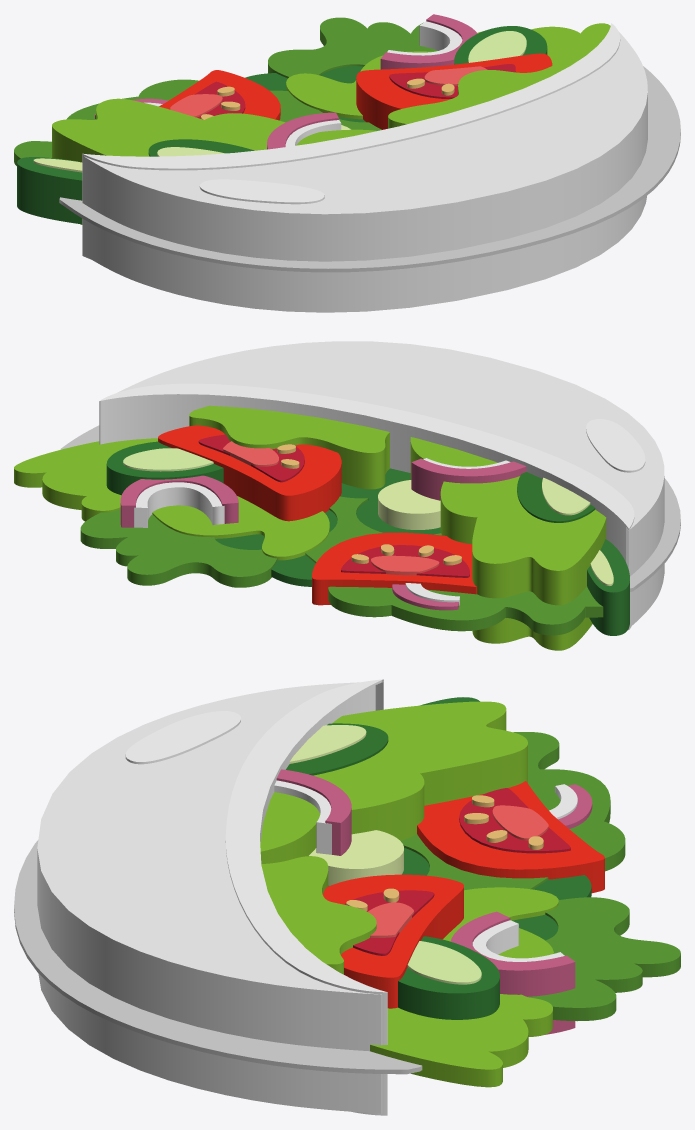
File: emoji_u1f957.glb
3 renders of one model, top to bottom at view 1: azimuth 30°, elevation 25°; view 2: azimuth 150°, elevation 25°; view 3: azimuth 270°, elevation 25°, orthographic. The views are drawn at different scales.
Parts seen in each view (by area): view 1: emoji_u1f957; view 2: emoji_u1f957; view 3: emoji_u1f957.
Boxes of the visible parts, <box> form: emoji_u1f957: <box>14,14,680,312</box>; emoji_u1f957: <box>14,341,680,650</box>; emoji_u1f957: <box>14,679,680,1115</box>.
Size of the model in its own units: 0.0345 by 0.0056 by 0.0274.
